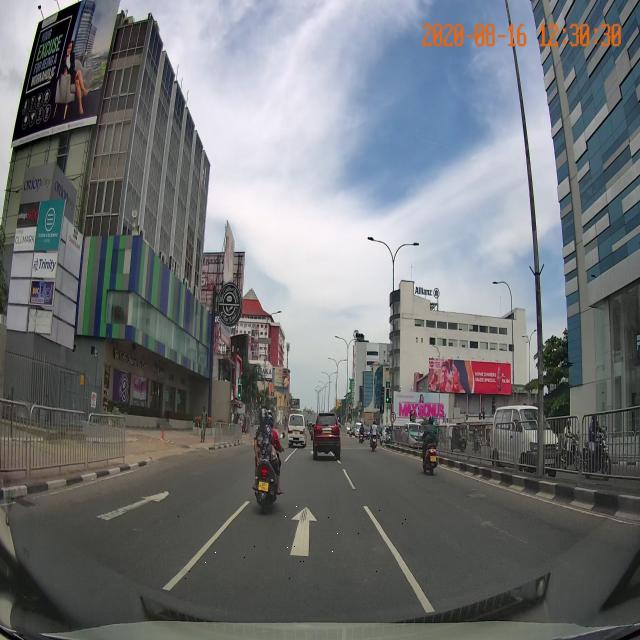diamond: (176, 501, 413, 580)
